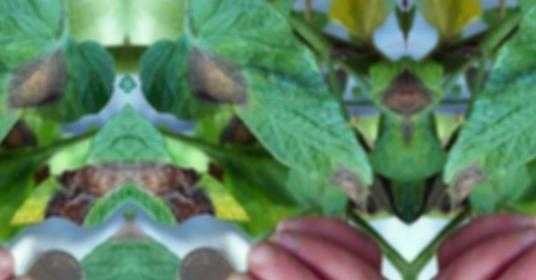Tomato leaf late blight: (134, 0, 380, 223), (126, 48, 253, 240)
